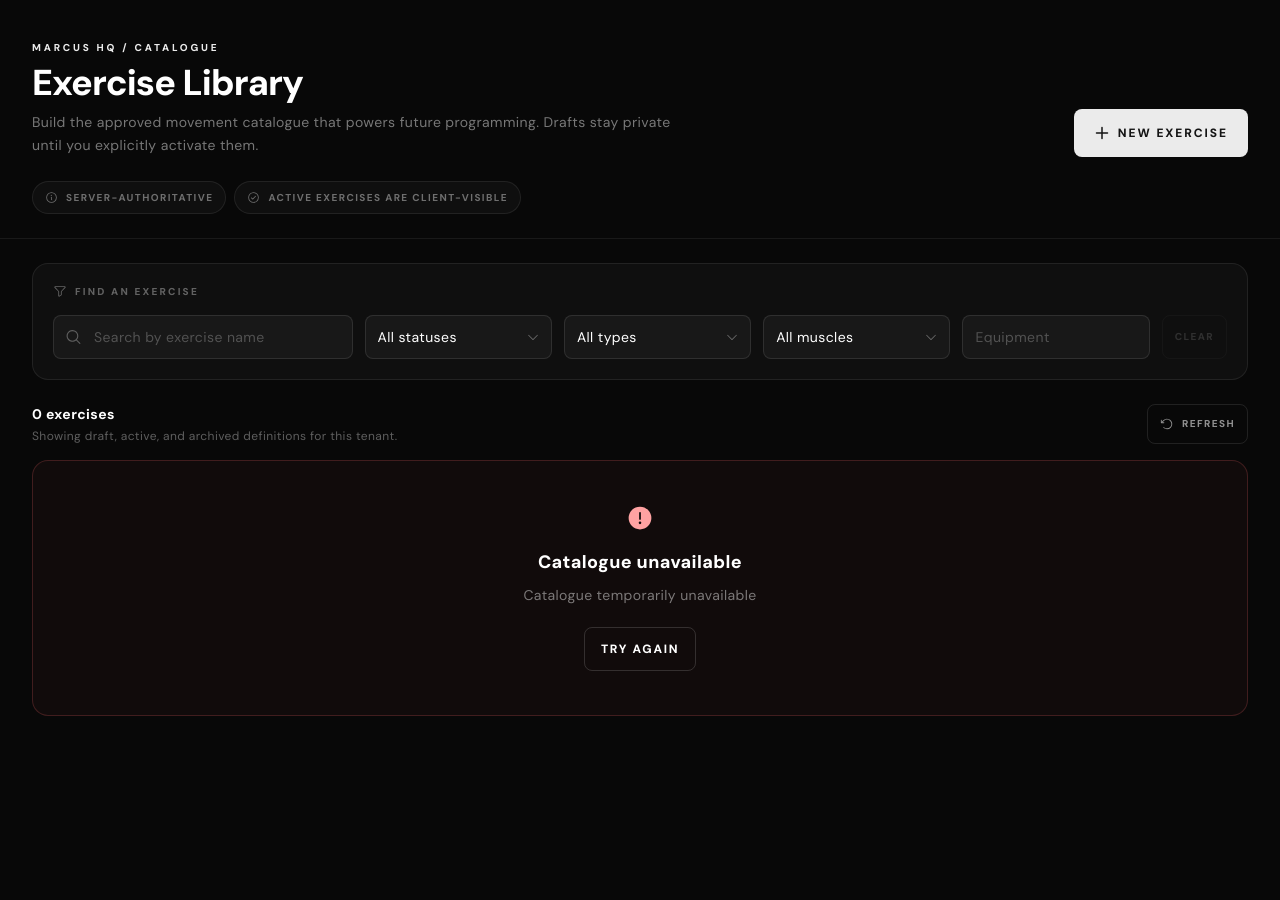
Test case: ExerciseLibrary page › shows an API failure and retries the catalogue request
This screenshot has width=1280, height=900.
Check: the message shows "Catalogue temporarily unavailable", box [523, 586, 756, 604]
Click the button "Try again" at (640, 649), box [584, 627, 696, 671]
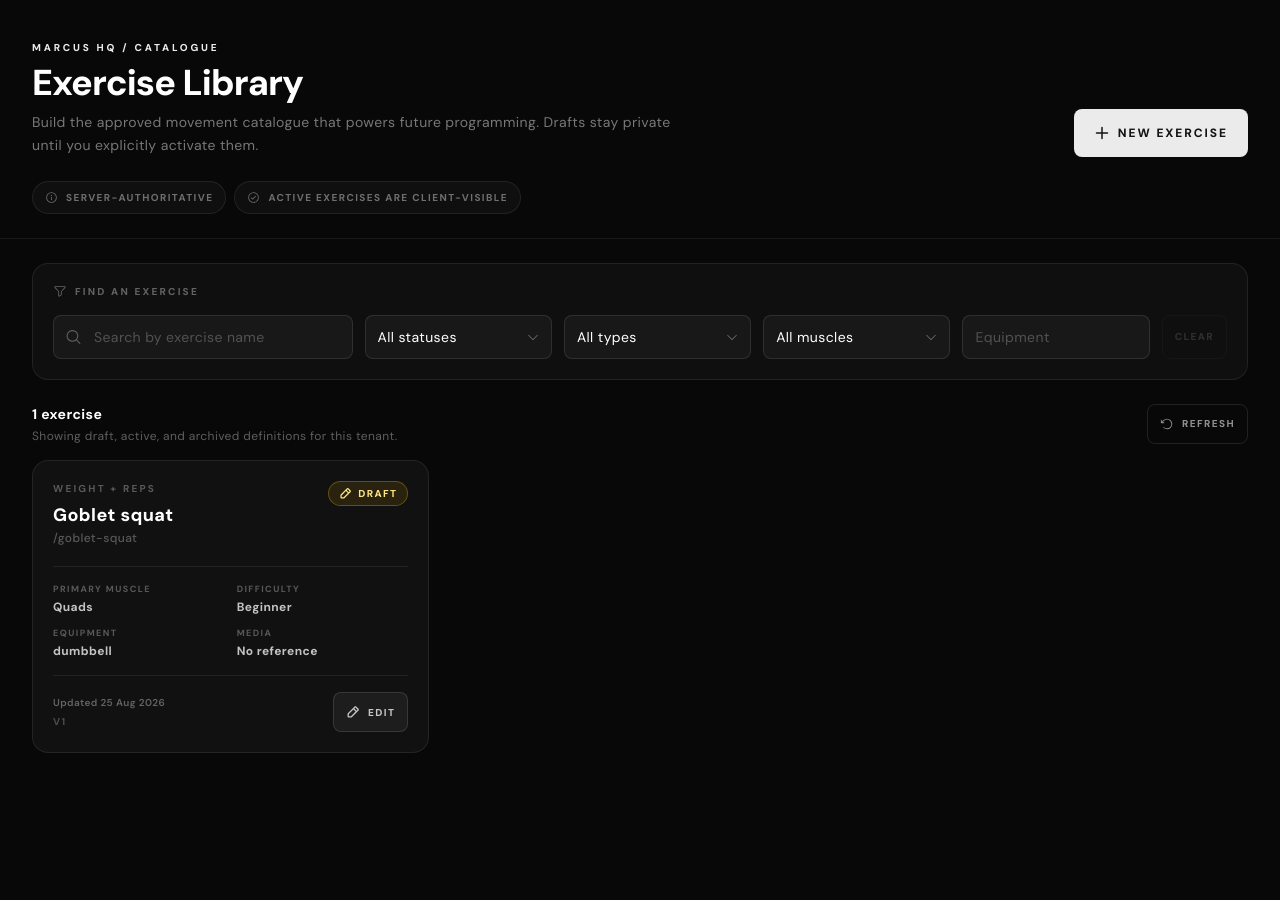
Check: the heading "Goblet squat" is shown, box [53, 504, 173, 526]
